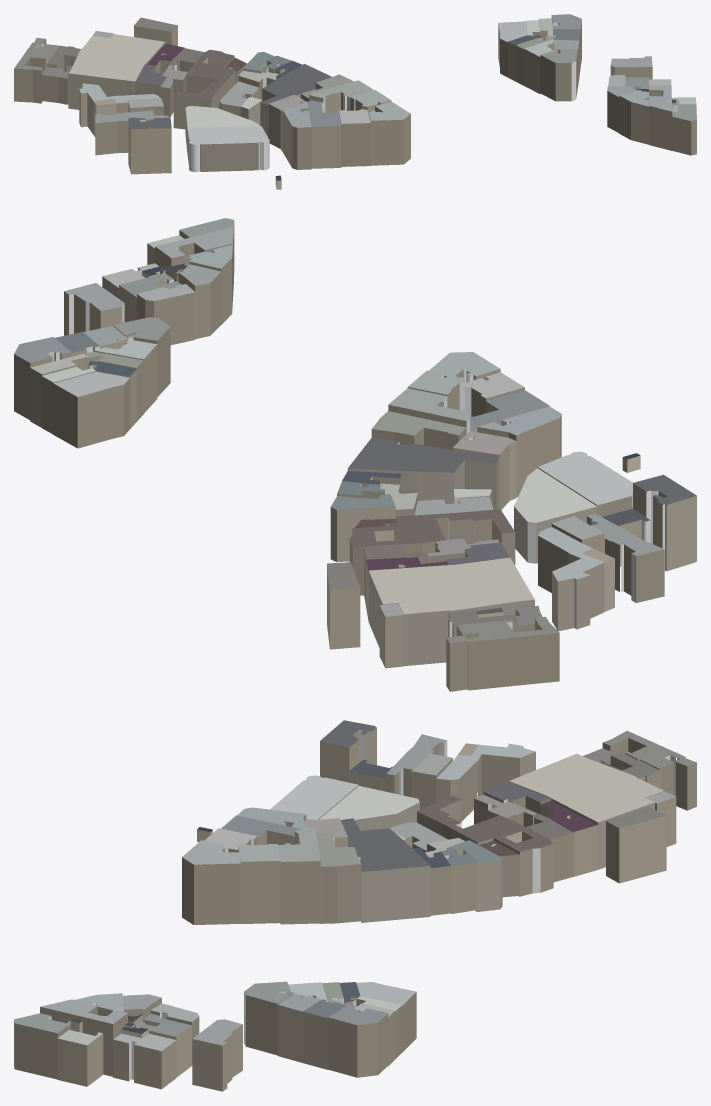
3 renders of one model, top to bottom at view 1: azimuth 30°, elevation 25°; view 2: azimuth 150°, elevation 25°; view 3: azimuth 270°, elevation 25°, orthographic. The views are drawn at different scales.
Visible parts, largest first — view 1: tuile; view 2: tuile; view 3: tuile.
Boxes of the visible parts, <box> form: tuile: <box>14,14,696,189</box>; tuile: <box>14,218,696,691</box>; tuile: <box>14,720,696,1091</box>.
Size of the model in its own units: 275 by 27.88 by 248.
